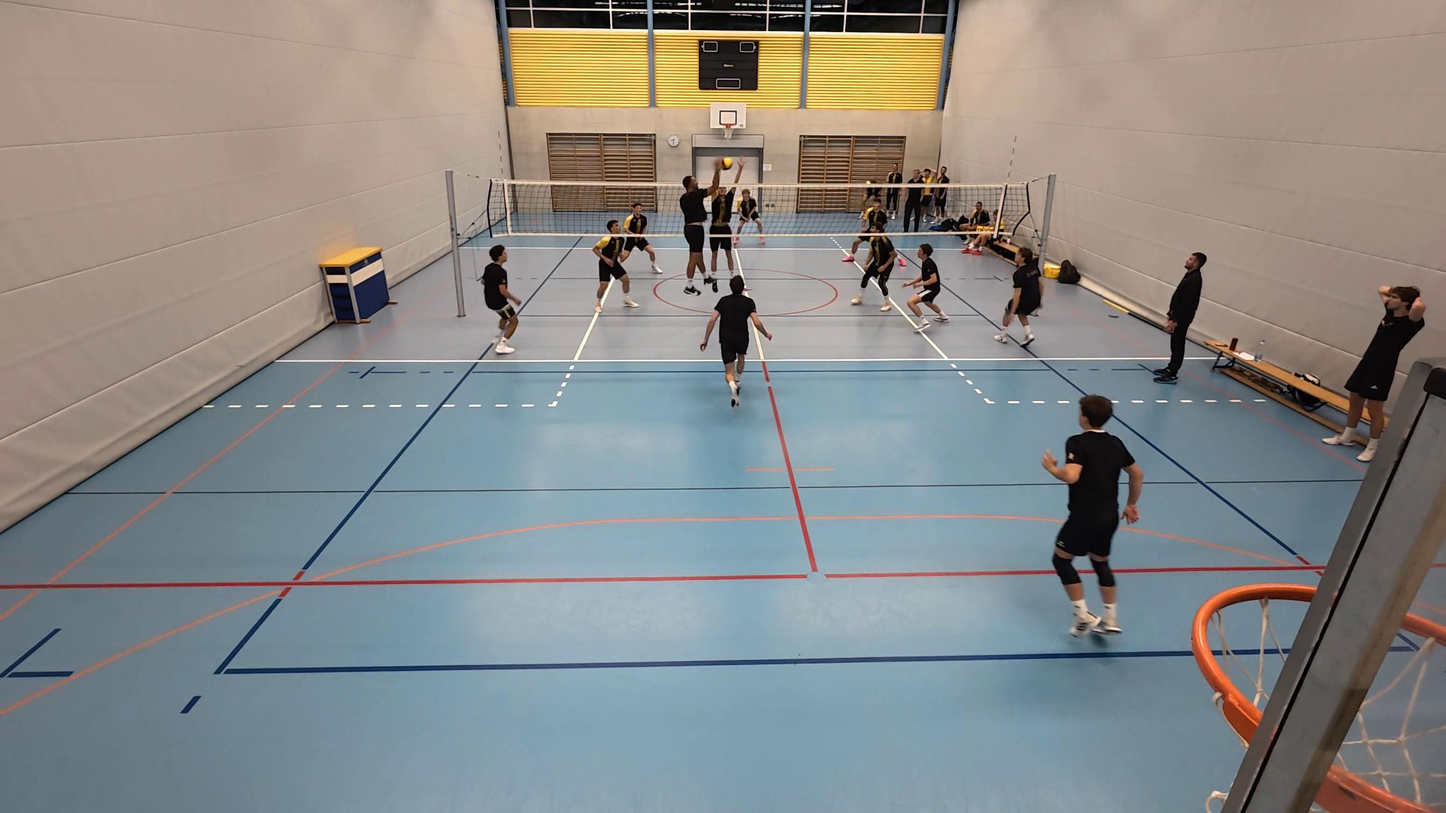attacco: (678, 158, 729, 297)
muro: (703, 159, 741, 287)
